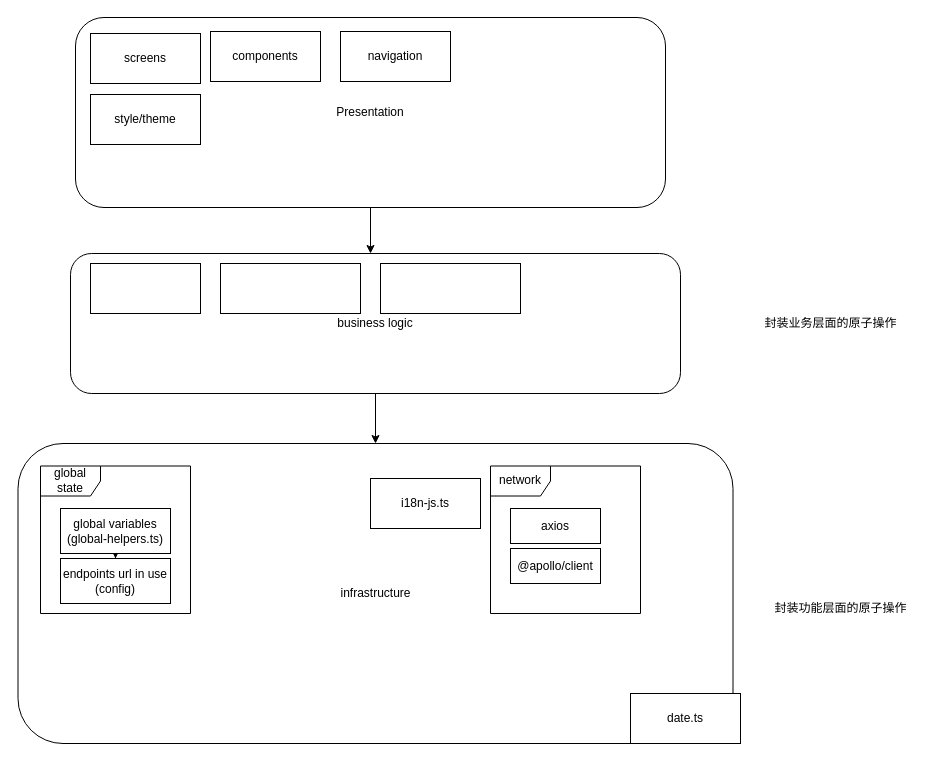
Image size: 937x761. Some labels were removed from this diagram. The shapes that lost their labels are listed below. From the top down, each one's centre as x and y in pixels, then its label:
At (x=145, y=288): "ui-configuration".
At (x=290, y=288): "setCountry/Language".
At (x=450, y=288): "file-pick".
